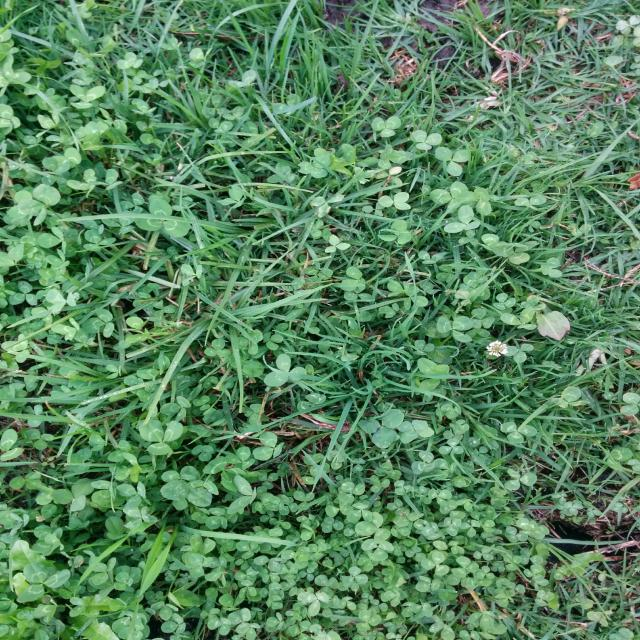Four Leaf Clover: (396, 420, 434, 444)
